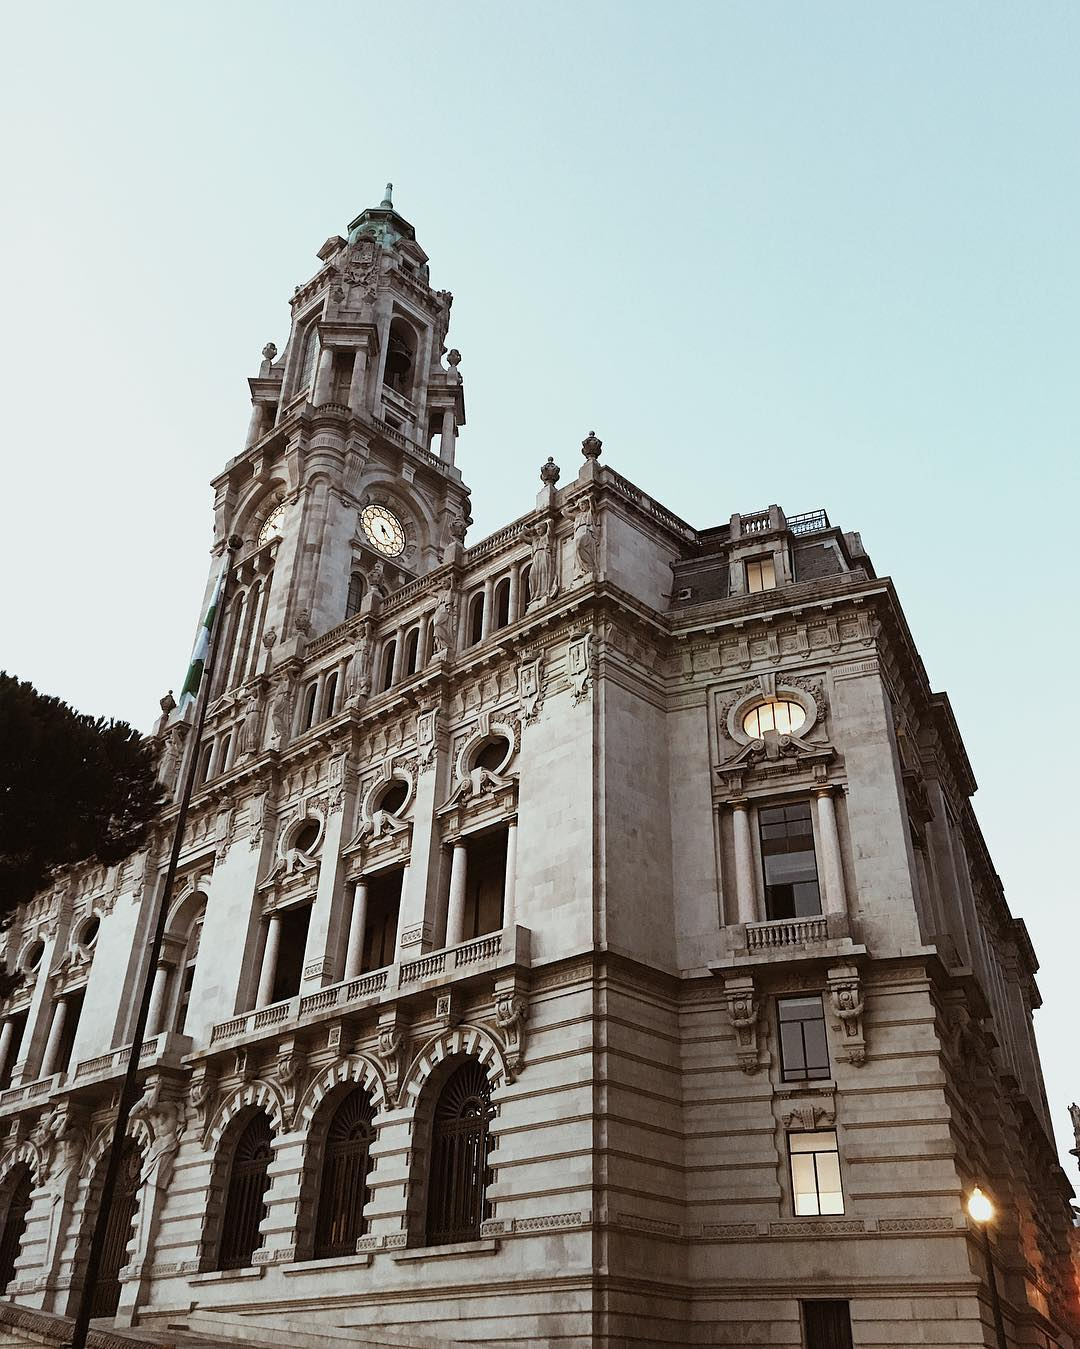camara: (0, 175, 1079, 1348)
